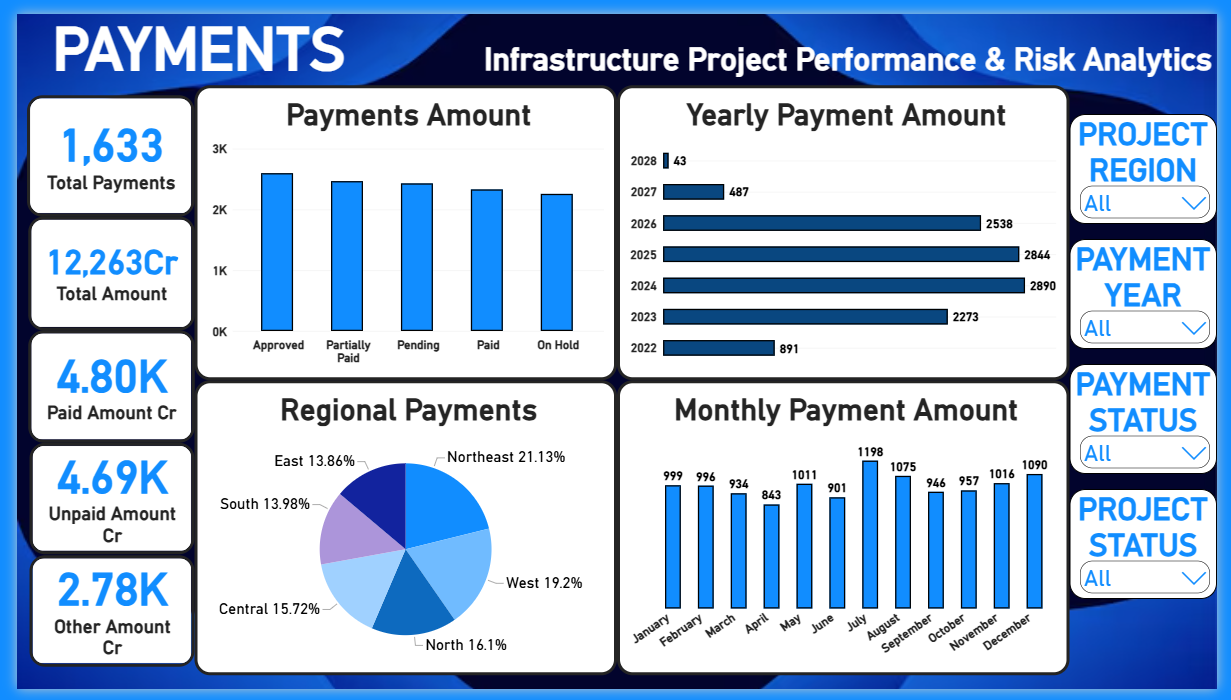

The page's visual inventory and layout, read from the dashboard file:
{"tool":"powerbi","page":{"name":"Payments","canvas":[1920,1080],"ordinal":3},"visuals":[{"type":"textbox","box":[0,0,1920,228],"z":0},{"type":"clusteredColumnChart","title":"Payments Amount","fields":{"Category":["Payments.Payment_Status"],"Y":["Sum(Payments.Amount_Cr)"]},"box":[284,114,676,472],"z":1000},{"type":"cardVisual","fields":{"Data":["Payments.Total Payments"]},"box":[16,130,268,194],"z":2000},{"type":"clusteredBarChart","title":"Yearly Payment Amount","fields":{"Category":["Payments.Payment_Date.Variation.Date Hierarchy.Year"],"Y":["Sum(Payments.Amount_Cr)"]},"box":[960,114,724,472],"z":3000},{"type":"columnChart","title":"Monthly Payment Amount","fields":{"Category":["Payments.Payment_Date.Variation.Date Hierarchy.Month"],"Y":["Sum(Payments.Amount_Cr)"]},"box":[960,586,724,472],"z":4000},{"type":"pieChart","title":"Regional Payments","fields":{"Category":["Projects.Region"],"Y":["CountNonNull(Payments.Payment_ID)"]},"box":[284,586,676,472],"z":5000},{"type":"cardVisual","fields":{"Data":["Payments.Total Amount"]},"box":[18,324,266,182],"z":6000},{"type":"cardVisual","fields":{"Data":["Sum(Payments.Amount_Cr)"]},"box":[18,506,266,180],"z":7000},{"type":"cardVisual","fields":{"Data":["Sum(Payments.Amount_Cr)"]},"box":[20,686,264,178],"z":8000},{"type":"cardVisual","fields":{"Data":["Sum(Payments.Amount_Cr)"]},"box":[20,866,264,178],"z":9000},{"type":"textbox","box":[1684,160,236,176],"z":10000},{"type":"slicer","fields":{"Values":["Projects.Region"]},"box":[1695,270,218,76],"z":11000},{"type":"textbox","box":[1684,360,236,176],"z":12000},{"type":"slicer","fields":{"Values":["Payments.Payment_Date.Variation.Date Hierarchy.Year"]},"box":[1695,470,218,76],"z":13000},{"type":"textbox","box":[1684,560,236,176],"z":14000},{"type":"slicer","fields":{"Values":["Payments.Payment_Status"]},"box":[1695,670,218,76],"z":15000},{"type":"textbox","box":[1684,760,236,176],"z":16000},{"type":"slicer","fields":{"Values":["Projects.Status"]},"box":[1695,870,218,76],"z":17000}]}

Visuals, with their boxes in screenshot pixels (x1, y1, x2, y2), scaled from the page's 1920x1080 canvas onto the 1231x700 screenshot:
textbox: select_region(0, 0, 1230, 148)
"Payments Amount" clusteredColumnChart: select_region(182, 74, 616, 380)
cardVisual - Payments.Total Payments: select_region(10, 84, 182, 210)
"Yearly Payment Amount" clusteredBarChart: select_region(616, 74, 1080, 380)
"Monthly Payment Amount" columnChart: select_region(616, 380, 1080, 686)
"Regional Payments" pieChart: select_region(182, 380, 616, 686)
cardVisual - Payments.Total Amount: select_region(12, 210, 182, 328)
cardVisual - Sum(Payments.Amount_Cr): select_region(12, 328, 182, 445)
cardVisual - Sum(Payments.Amount_Cr): select_region(13, 445, 182, 560)
cardVisual - Sum(Payments.Amount_Cr): select_region(13, 561, 182, 677)
textbox: select_region(1080, 104, 1230, 218)
slicer - Projects.Region: select_region(1087, 175, 1227, 224)
textbox: select_region(1080, 233, 1230, 347)
slicer - Payments.Payment_Date.Variation.Date Hierarchy.Year: select_region(1087, 305, 1227, 354)
textbox: select_region(1080, 363, 1230, 477)
slicer - Payments.Payment_Status: select_region(1087, 434, 1227, 484)
textbox: select_region(1080, 493, 1230, 607)
slicer - Projects.Status: select_region(1087, 564, 1227, 613)
